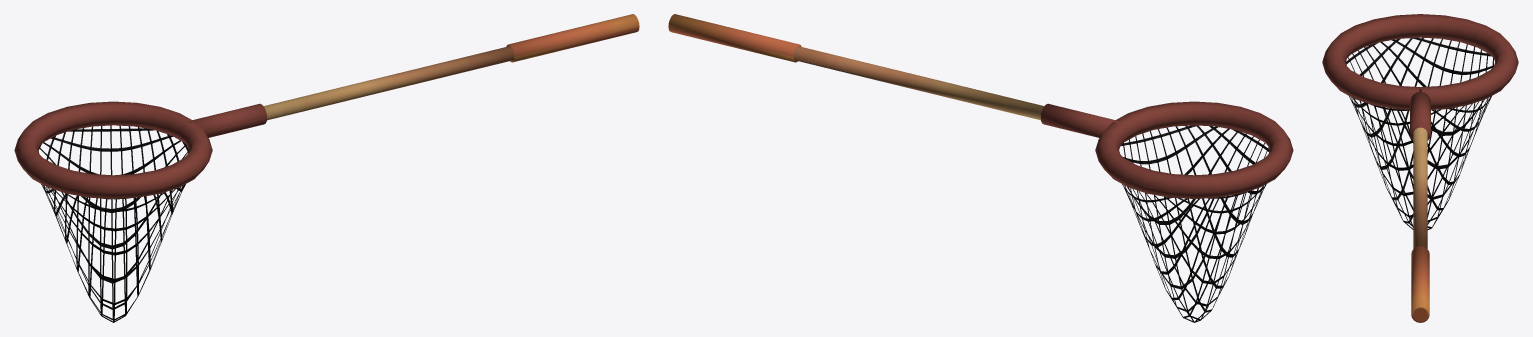
File: primitive_net.fbx
The picture shows the model from 3 angles, left to right: view 1: azimuth 30°, elevation 25°; view 2: azimuth 150°, elevation 25°; view 3: azimuth 270°, elevation 25°; orthographic projection.
Visible parts, largest first — view 1: Torus.001; view 2: Torus.001; view 3: Torus.001.
Part boxes in pixels (bbox=[...]): Torus.001: bbox=[14, 14, 639, 322]; Torus.001: bbox=[668, 14, 1293, 322]; Torus.001: bbox=[1322, 14, 1518, 322].
Bounding box in the file's own units: 792 × 227 × 224.
